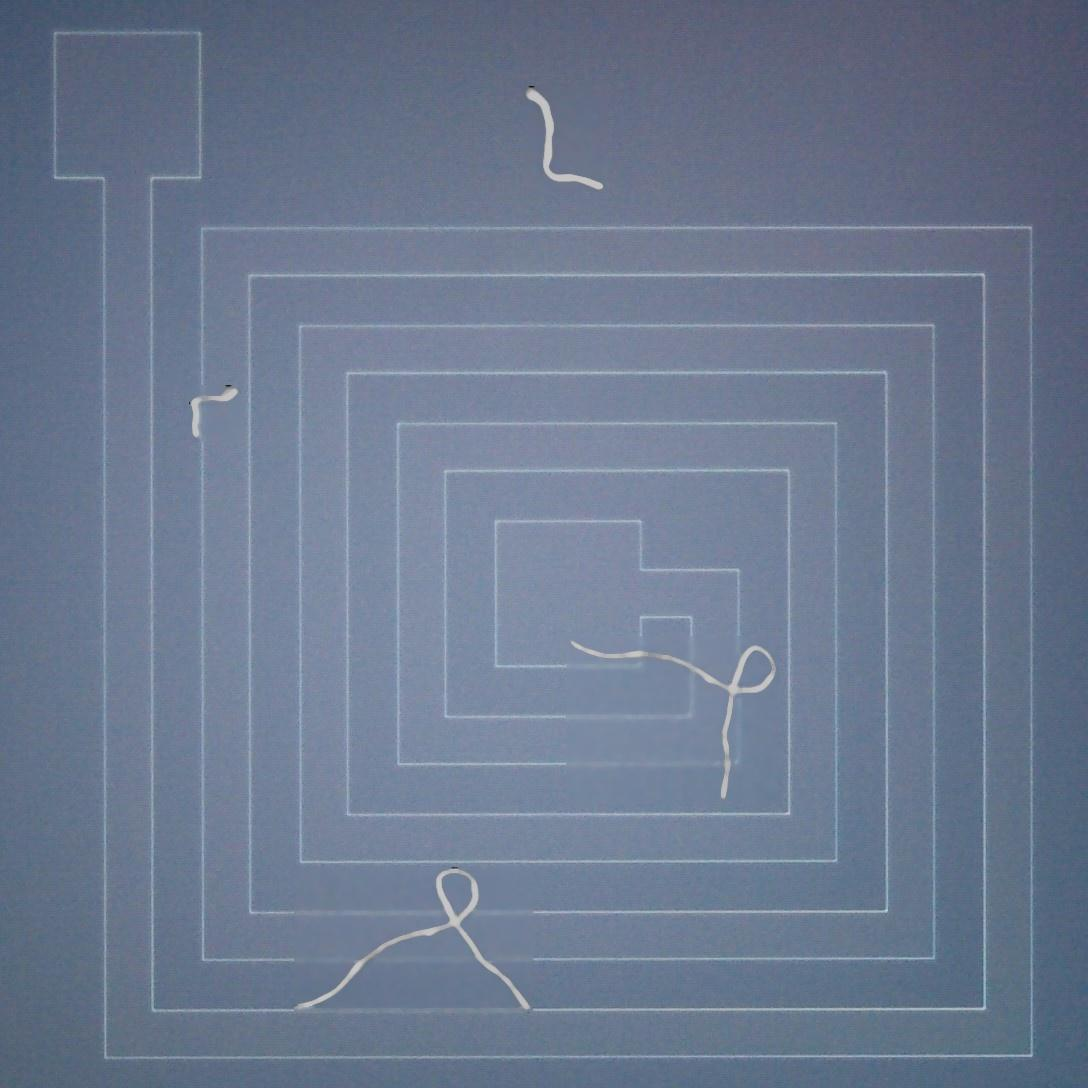foreign: (291, 861, 533, 1019), (566, 636, 784, 803), (522, 78, 610, 197), (187, 374, 251, 447)
